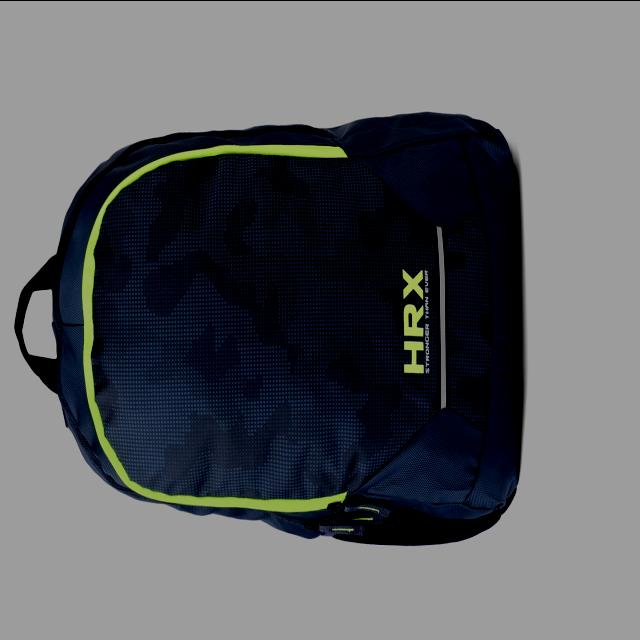backpack: (15, 111, 521, 547)
